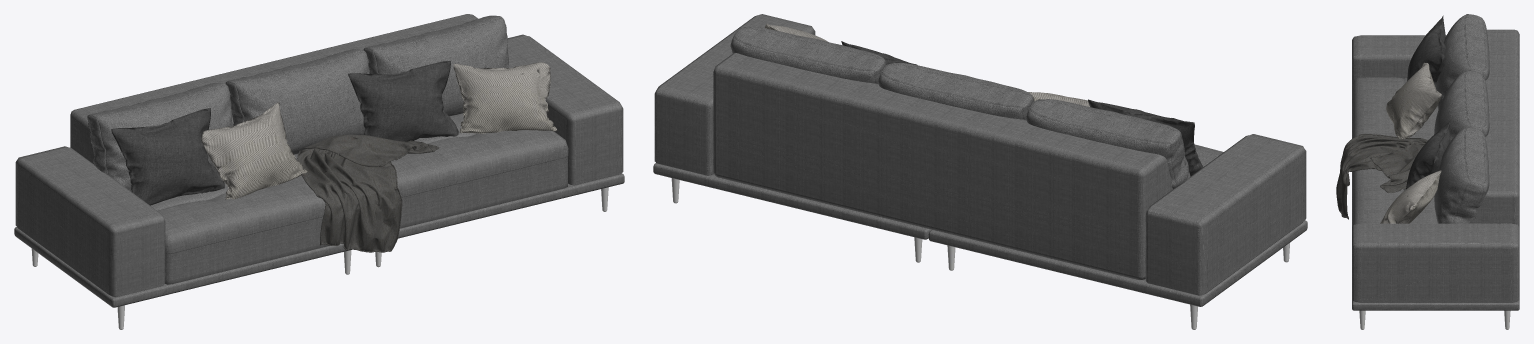
Rendered from MEGA_PACK_Sofa__Cotton_4-seater_sofa.glb.
The picture shows the model from 3 angles, left to right: view 1: azimuth 30°, elevation 25°; view 2: azimuth 150°, elevation 25°; view 3: azimuth 270°, elevation 25°; orthographic projection. The views are drawn at different scales.
Parts seen in each view (by area): view 1: Cotton 4-seater sofa; view 2: Cotton 4-seater sofa; view 3: Cotton 4-seater sofa.
Boxes of the visible parts, x1,y1,x2,y2 form: Cotton 4-seater sofa: [14, 14, 624, 329]; Cotton 4-seater sofa: [653, 14, 1307, 329]; Cotton 4-seater sofa: [1336, 14, 1519, 329].
Bounding box in the file's own units: 2.82 × 0.8316 × 1.04.
Materials: 5 (5 with a texture image).
